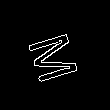M_E: (24, 26, 86, 84)
